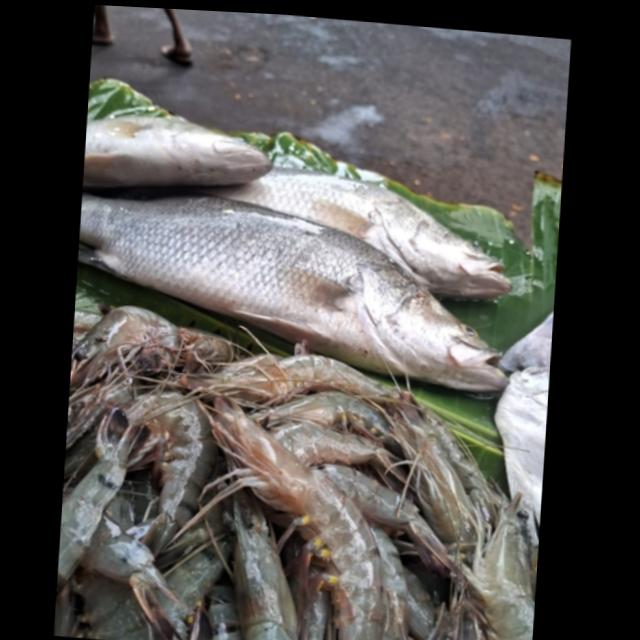Seabass: (68, 180, 519, 394), (194, 158, 518, 296)
